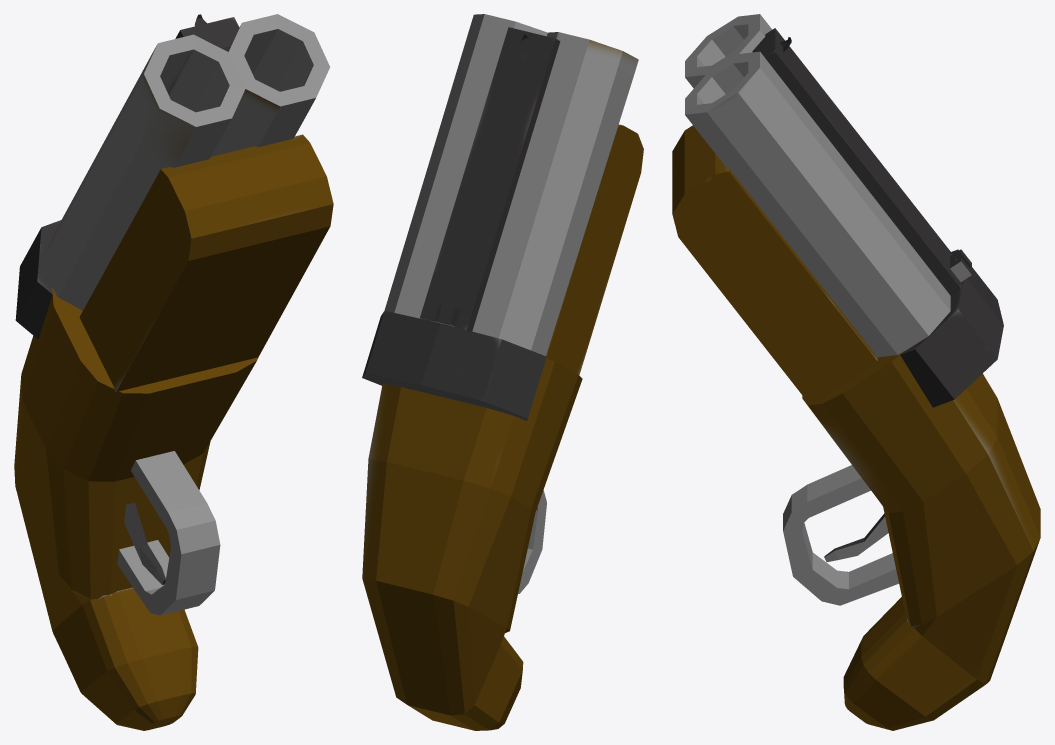
File: U_EscopetaPU.obj
3 views of the same model, side by side, from view 1: azimuth 30°, elevation 25°; view 2: azimuth 150°, elevation 25°; view 3: azimuth 270°, elevation 25° (orthographic). The views are drawn at different scales.
Parts seen in each view (by area): view 1: Plane; view 2: Plane; view 3: Plane.
Boxes of the visible parts, left/top/right/bottom form: Plane: left=14, top=14, right=333, bottom=730; Plane: left=362, top=14, right=643, bottom=730; Plane: left=672, top=14, right=1040, bottom=730.
Size of the model in its own units: 0.2181 by 0.8211 by 0.4008.
